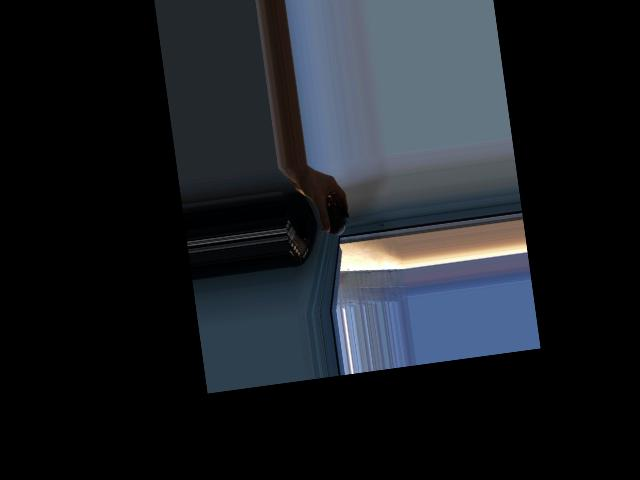beet: (316, 200, 351, 238)
